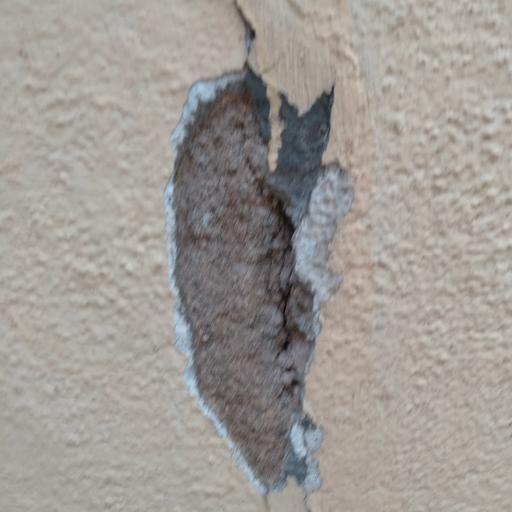spalling: (145, 1, 349, 503)
